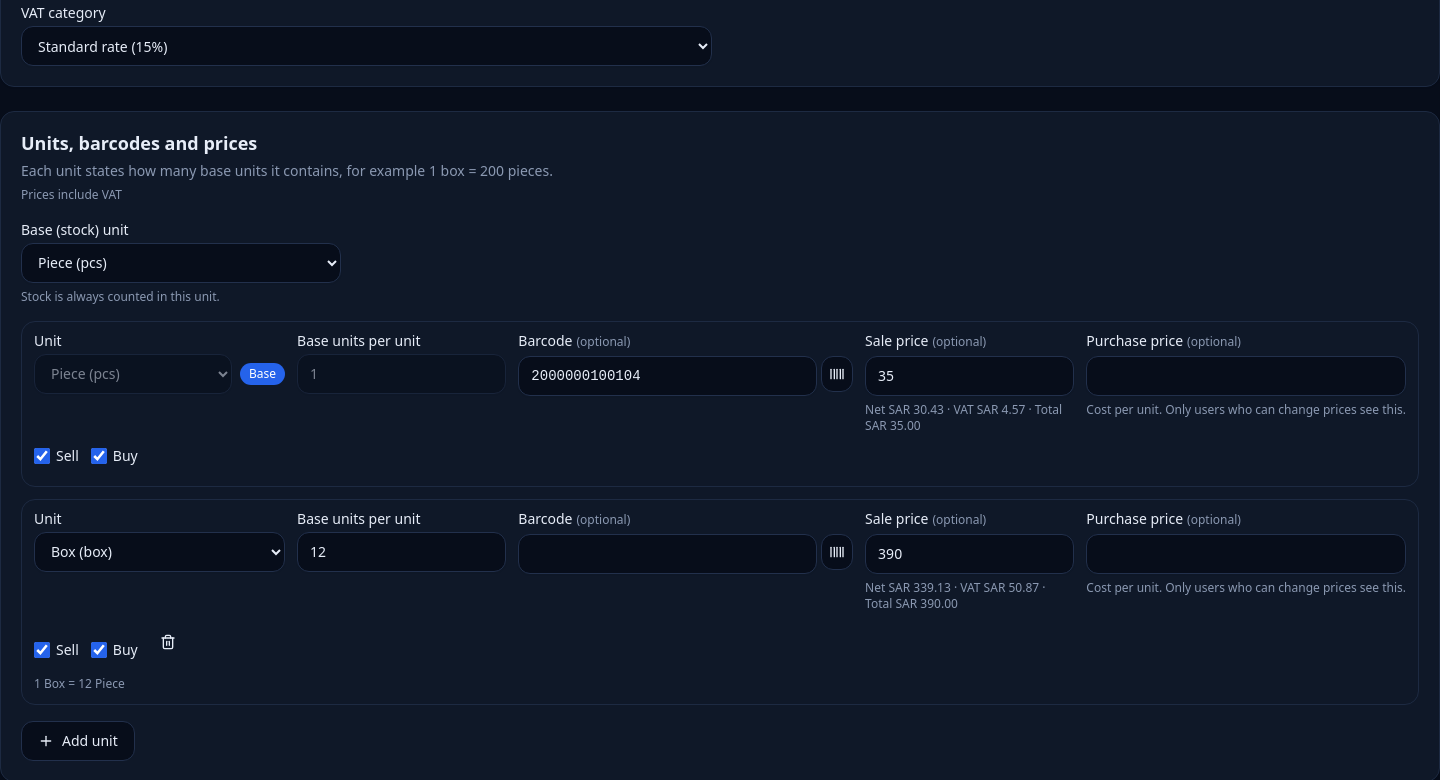
Scenario: ProductForm › rejects a mistyped GTIN barcode
The image size is (1440, 780).
(page scrolled)
Replace the text in the 1st field labelled "Barcode(optional)" with "2000000100105" at (668, 376), box [518,356,817,396]
(page scrolled)
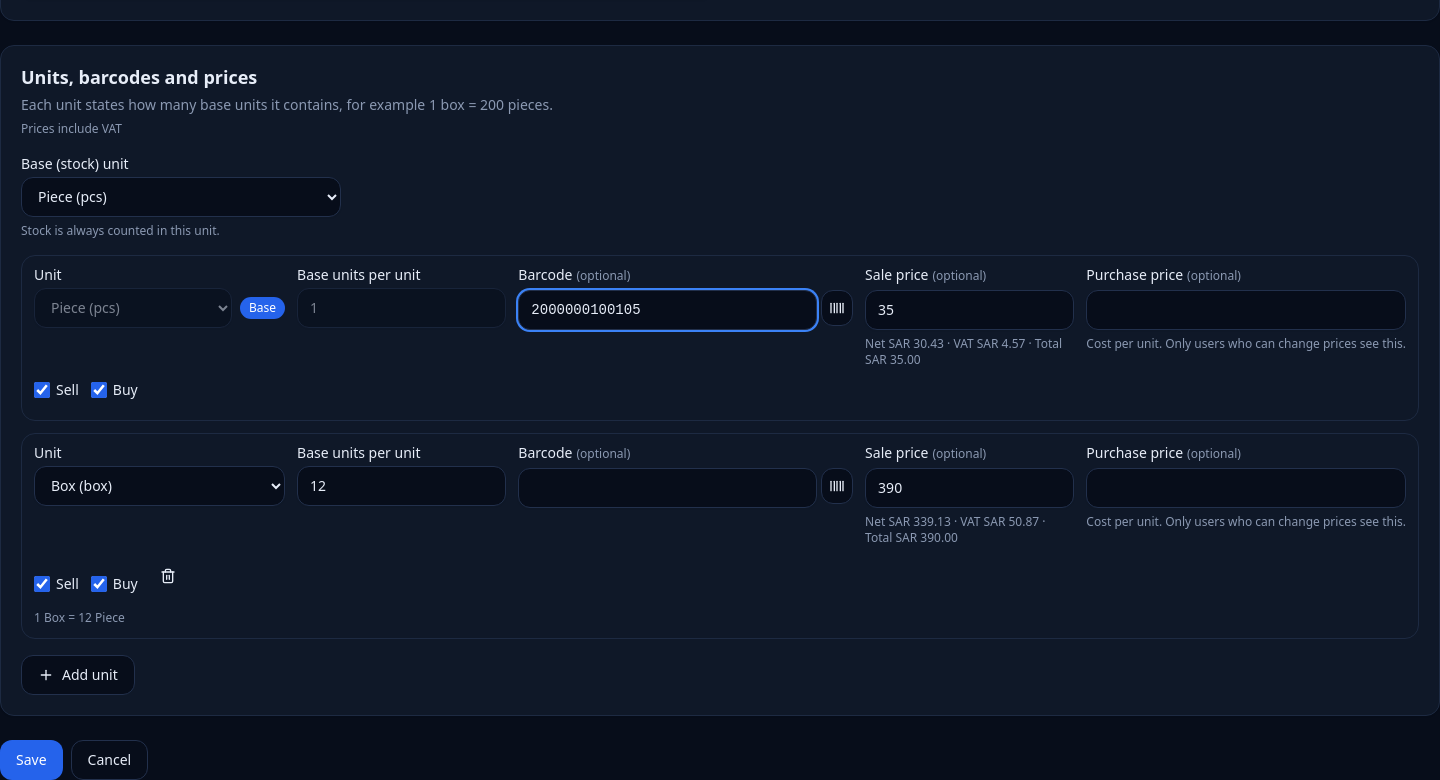
Click the button "Save" at (31, 760), box [0,740,63,779]
(page scrolled)
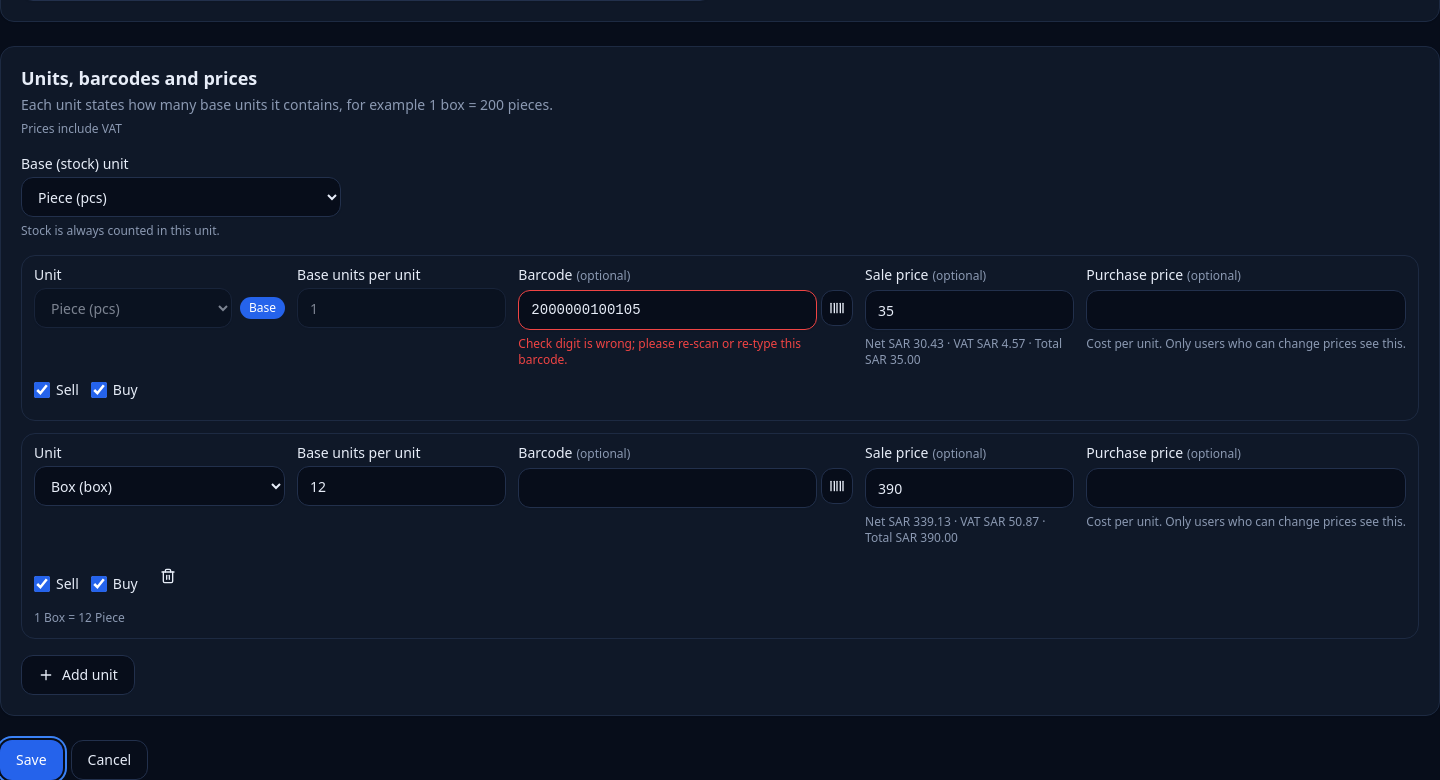
expect the text "Check digit is wrong; please re-scan or re-type this barcode." is shown: met, box [518,335,801,368]
